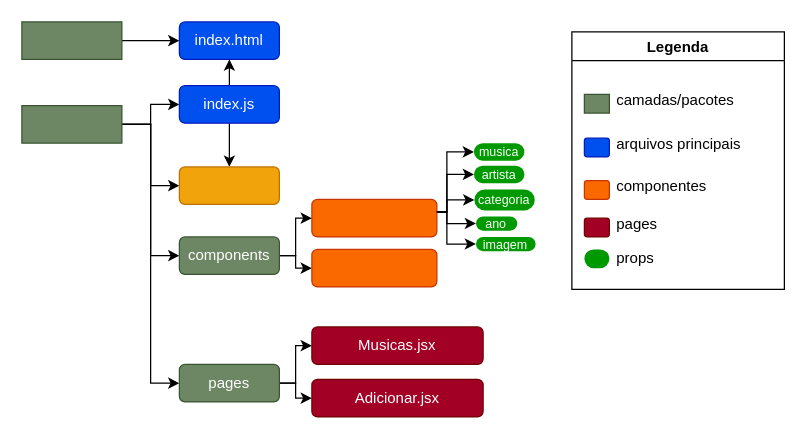
Some shapes in this 806 by 439 pixel diagram are drawn without their labels. Here are the shapes that lost their labels. From the top down, the centre of each, then its label:
At pixel 71 40: "public".
At pixel 71 123: "src".
At pixel 228 185: "App.js".
At pixel 374 217: "ItemMusica.jsx".
At pixel 374 267: "Menu.jsx".
